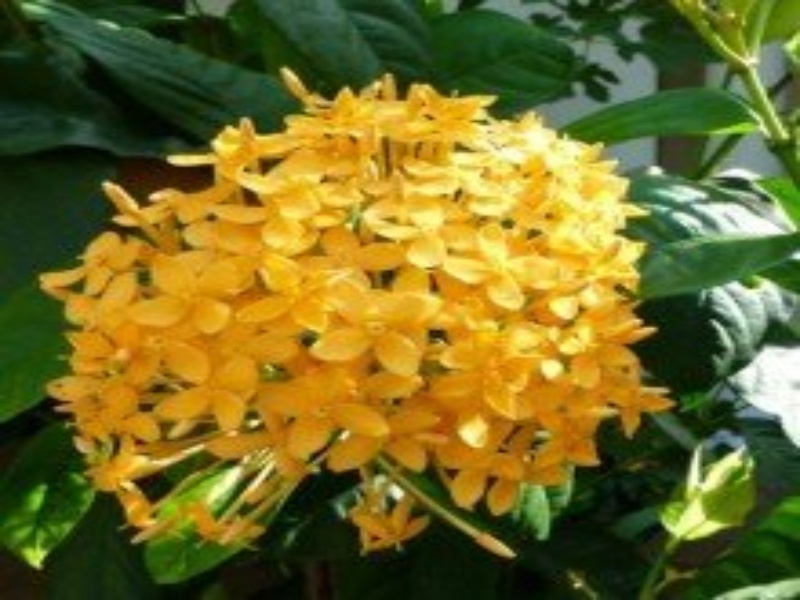Ixora: (28, 46, 685, 538)
